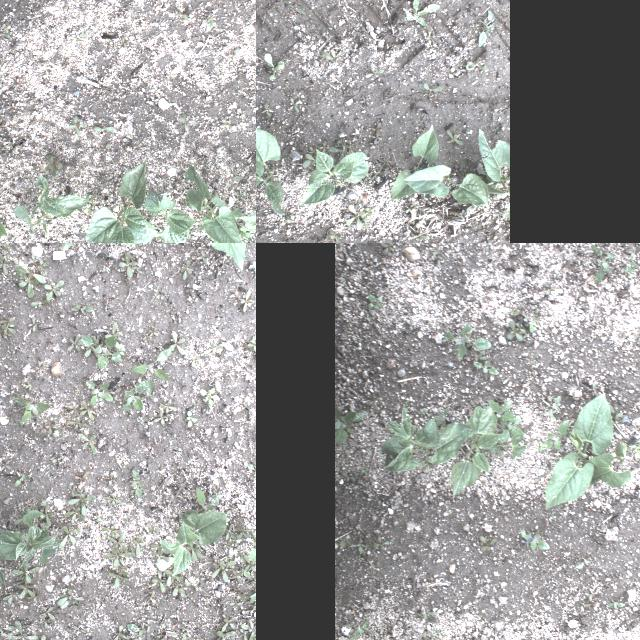crop: (544, 394, 614, 512), (380, 399, 470, 473), (183, 162, 256, 243), (14, 174, 94, 240), (85, 159, 147, 243), (451, 405, 504, 497), (160, 510, 227, 576), (0, 500, 60, 571), (300, 150, 370, 206), (390, 125, 440, 201), (402, 164, 488, 206), (133, 188, 198, 243), (256, 125, 286, 213), (478, 124, 509, 196), (584, 442, 630, 488), (184, 243, 246, 270), (489, 434, 526, 458), (248, 530, 256, 564)
weed: (438, 322, 492, 360), (132, 349, 172, 397), (15, 255, 50, 299), (80, 334, 122, 370), (180, 488, 224, 518), (334, 406, 364, 446), (402, 0, 445, 27), (103, 547, 131, 587), (12, 398, 50, 426), (590, 243, 614, 283), (539, 421, 569, 452), (232, 532, 256, 566), (67, 488, 95, 516), (499, 414, 525, 444), (165, 570, 191, 598), (262, 52, 284, 84), (2, 620, 37, 640), (86, 380, 112, 406), (343, 202, 367, 230), (56, 586, 84, 610), (520, 530, 550, 552), (479, 8, 495, 48), (12, 576, 36, 602), (489, 398, 515, 422), (125, 381, 145, 411), (12, 563, 40, 583), (456, 61, 488, 78), (120, 254, 142, 278), (76, 338, 102, 358), (212, 560, 236, 580), (542, 396, 562, 420), (108, 625, 139, 640), (417, 79, 445, 95), (472, 360, 500, 376), (105, 323, 122, 349), (58, 526, 80, 546), (44, 154, 62, 178), (68, 115, 88, 136), (238, 580, 256, 603), (130, 469, 144, 498), (78, 433, 98, 453), (44, 280, 64, 300), (240, 615, 256, 640), (349, 620, 369, 640), (238, 290, 256, 312), (38, 607, 56, 629), (506, 320, 524, 342), (170, 331, 186, 355), (200, 388, 220, 407), (241, 553, 256, 578), (284, 8, 304, 26), (186, 542, 204, 562), (39, 504, 55, 526), (434, 407, 450, 429), (106, 536, 125, 554), (173, 629, 204, 640), (364, 69, 388, 83), (179, 114, 197, 132), (510, 302, 528, 320), (320, 51, 342, 65), (152, 570, 166, 592), (479, 536, 498, 552), (445, 130, 461, 148), (66, 417, 90, 429), (606, 405, 624, 421), (80, 401, 94, 421), (65, 508, 85, 522), (126, 623, 146, 637), (626, 248, 636, 276), (302, 150, 314, 172), (372, 121, 388, 137), (154, 409, 170, 425), (221, 616, 237, 632), (367, 294, 383, 310), (523, 316, 539, 332), (376, 243, 393, 258), (2, 318, 16, 336), (67, 334, 81, 352), (349, 540, 367, 554), (151, 630, 176, 640), (211, 630, 236, 640), (408, 229, 428, 241), (182, 260, 194, 280), (154, 284, 166, 304), (150, 550, 170, 562), (225, 48, 241, 62), (260, 106, 274, 122), (324, 146, 352, 154), (14, 472, 30, 486), (372, 537, 388, 551), (629, 439, 640, 459), (172, 8, 190, 20), (101, 526, 122, 536), (31, 298, 51, 308), (0, 315, 8, 340), (204, 344, 224, 354), (134, 534, 144, 554), (416, 611, 436, 621), (321, 232, 339, 243), (77, 26, 91, 40), (542, 280, 556, 294), (287, 98, 299, 114), (28, 317, 40, 333), (70, 306, 94, 314), (186, 411, 198, 427), (44, 418, 56, 434), (2, 589, 14, 605), (340, 471, 356, 483), (248, 334, 256, 357), (105, 495, 123, 505), (606, 600, 624, 610), (93, 124, 115, 132), (0, 243, 11, 259), (160, 402, 177, 412), (201, 16, 215, 28), (365, 206, 379, 218), (196, 250, 208, 264), (105, 472, 117, 486), (146, 590, 158, 604), (574, 557, 588, 569), (218, 120, 234, 130), (371, 138, 384, 150), (44, 431, 58, 442), (417, 630, 432, 640), (0, 254, 7, 275), (232, 170, 244, 182), (148, 525, 160, 537), (110, 388, 122, 400), (585, 594, 597, 606), (120, 36, 130, 50), (36, 360, 46, 374), (14, 511, 24, 525), (233, 570, 243, 584), (336, 538, 350, 548), (430, 245, 440, 258), (248, 464, 256, 480), (226, 524, 234, 540), (245, 605, 256, 616), (320, 91, 330, 103), (119, 246, 131, 256), (68, 404, 80, 414), (237, 528, 249, 538), (528, 304, 540, 314), (516, 322, 526, 334), (632, 329, 640, 344), (432, 626, 442, 638), (282, 216, 296, 224), (104, 298, 112, 312), (128, 543, 136, 557), (142, 619, 150, 633), (473, 353, 487, 361), (24, 381, 34, 392), (244, 524, 253, 536), (368, 398, 380, 407), (315, 214, 325, 224), (0, 461, 10, 471), (152, 544, 162, 554), (542, 392, 552, 402), (67, 485, 75, 497), (593, 382, 599, 398), (356, 472, 364, 484), (148, 328, 158, 337), (227, 504, 236, 514), (116, 348, 125, 357), (220, 260, 230, 268), (192, 354, 198, 366), (72, 626, 84, 632), (34, 636, 51, 640), (361, 466, 369, 474), (51, 458, 61, 464), (418, 408, 428, 414), (74, 387, 80, 395), (230, 602, 242, 606), (86, 261, 92, 267), (549, 514, 555, 520), (225, 638, 240, 640), (482, 243, 492, 246), (182, 622, 188, 626)
